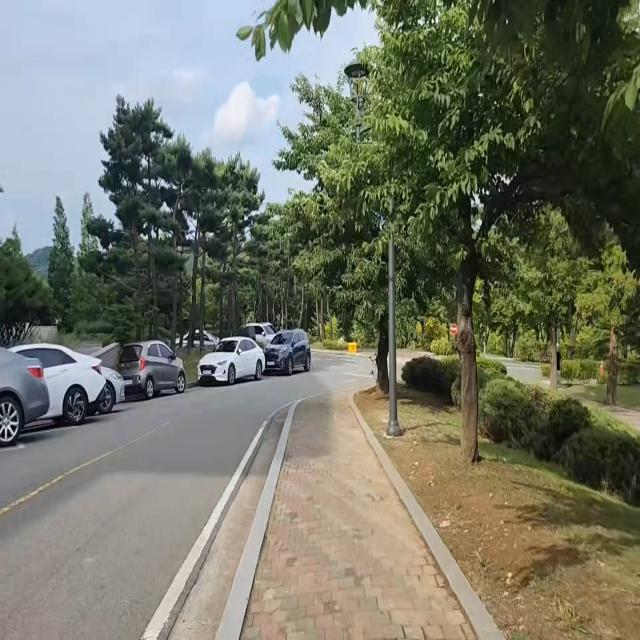obstacle: (0, 339, 127, 446), (196, 323, 317, 389), (113, 335, 189, 409)
road: (0, 374, 353, 640)
sidewalk: (217, 392, 507, 640)
